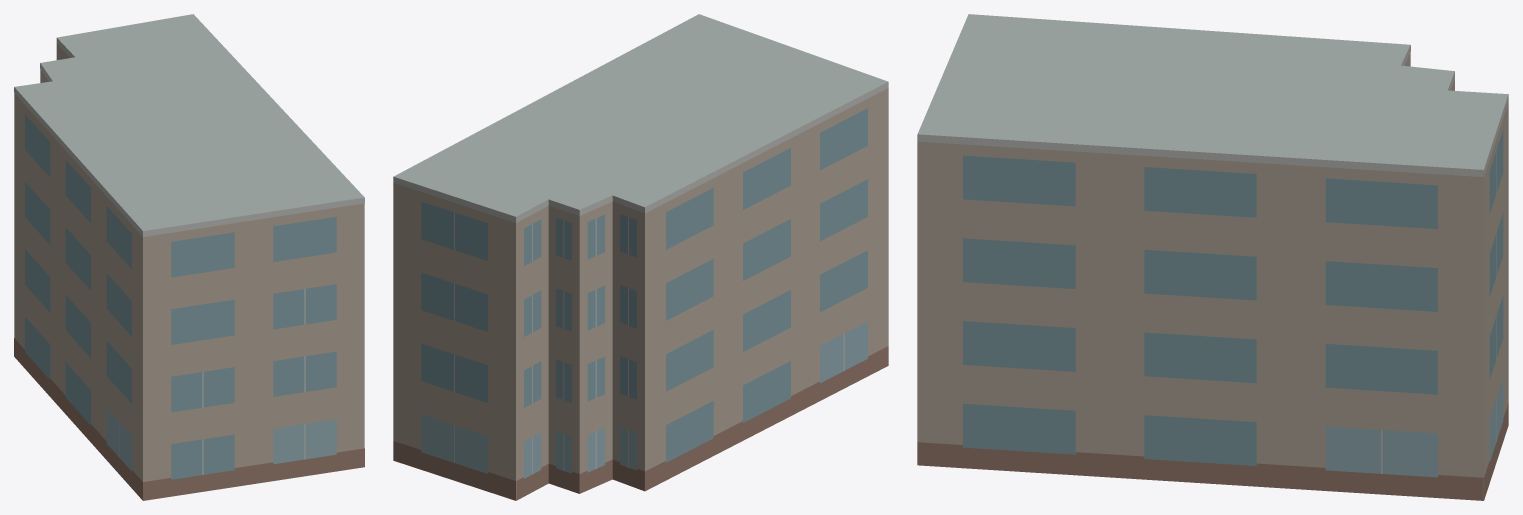
The model's file is survey-upis-32922161.glb.
3 renders of one model, left to right at view 1: azimuth 30°, elevation 25°; view 2: azimuth 150°, elevation 25°; view 3: azimuth 270°, elevation 25°, orthographic. The views are drawn at different scales.
Parts seen in each view (by area): view 1: survey-upis-32922161.tmp; view 2: survey-upis-32922161.tmp; view 3: survey-upis-32922161.tmp.
Part boxes in pixels (x1,y1,x2,y2): survey-upis-32922161.tmp: [14, 14, 364, 500]; survey-upis-32922161.tmp: [393, 14, 888, 500]; survey-upis-32922161.tmp: [917, 14, 1508, 500].
Bounding box in the file's own units: 11.33 × 11.2 × 18.14.
